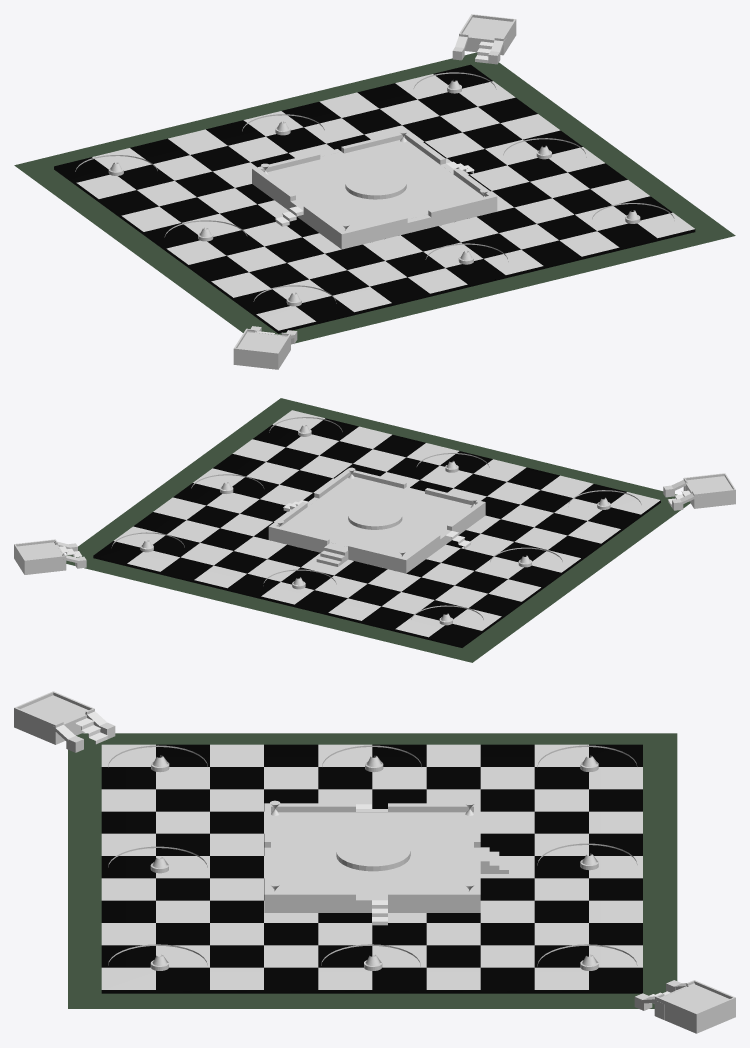
The model's file is 3D_Map3_V5.gltf.
3 renders of one model, top to bottom at view 1: azimuth 30°, elevation 25°; view 2: azimuth 150°, elevation 25°; view 3: azimuth 270°, elevation 25°, orthographic. The views are drawn at different scales.
Parts seen in each view (by area): view 1: Chess, Board, Stage, Cube.005, MidStage, Cube.002; view 2: Chess, Board, Stage, Cube.002, Cube.005, MidStage, Stairs.002; view 3: Chess, Board, Stage, Cube.002, Cube.005, MidStage, Stairs.002.
Part boxes in pixels (box(x1,y1,x2,y2)): Chess: box(54, 64, 695, 333); Board: box(14, 52, 735, 344); Stage: box(252, 131, 497, 249); Cube.005: box(233, 328, 290, 369); MidStage: box(345, 169, 406, 199); Cube.002: box(459, 14, 516, 55); Chess: box(93, 410, 660, 647); Board: box(66, 398, 690, 662); Stage: box(268, 469, 485, 573); Cube.002: box(14, 539, 66, 574); Cube.005: box(683, 473, 735, 508); MidStage: box(348, 503, 402, 529); Stairs.002: box(316, 545, 348, 566); Chess: box(101, 744, 642, 993); Board: box(68, 733, 677, 1008); Stage: box(264, 803, 480, 912); Cube.002: box(655, 980, 735, 1033); Cube.005: box(14, 691, 94, 744); MidStage: box(336, 835, 410, 871); Stairs.002: box(480, 847, 508, 873).
Size of the model in its own units: 83.09 by 3.35 by 78.47.
